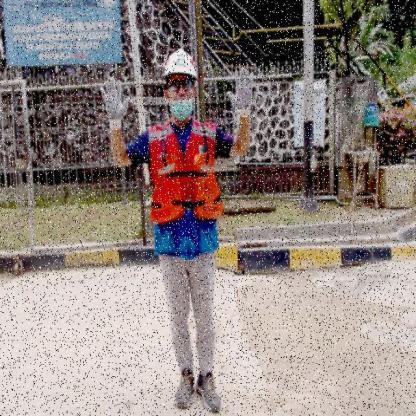boots: (195, 370, 221, 414), (174, 368, 196, 408)
gloves: (100, 76, 131, 131), (225, 66, 254, 118)
goggles: (168, 79, 193, 90)
helmet: (162, 48, 198, 79)
mask: (169, 99, 193, 121)
vest: (149, 152, 223, 224)
